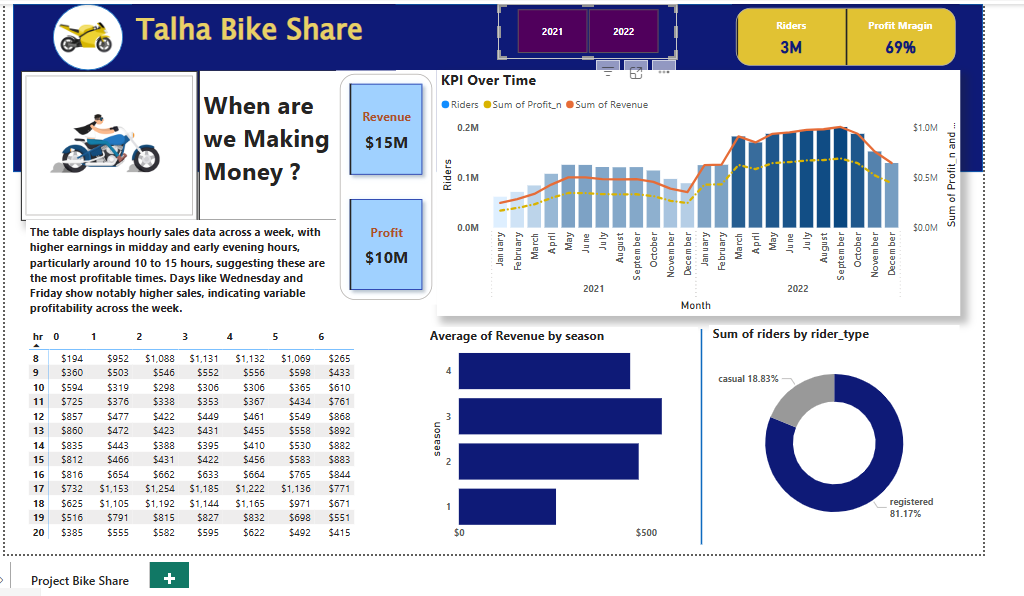

The dashboard page shown, as its layout file describes it:
{"tool":"powerbi","page":{"name":"Project Bike Share","canvas":[1280,720],"ordinal":0},"visuals":[{"type":"shape","box":[10.1,0,1269.9,220.1],"z":0},{"type":"cardVisual","fields":{"Data":["Sheet1.riders"]},"box":[21.4,87.1,231.4,195.7],"z":1000},{"type":"lineClusteredColumnComboChart","title":"KPI Over Time","fields":{"Y":["Sheet1.riders"],"Category":["Sheet1.dteday.Variation.Date Hierarchy.Year","Sheet1.dteday.Variation.Date Hierarchy.Month"],"Y2":["Sheet1.Profit_n","Sheet1.revenue"]},"box":[565,86.7,685,321.7],"z":2000},{"type":"pivotTable","fields":{"Rows":["Sheet1.hr"],"Values":["Sheet1.revenue"],"Columns":["Sheet1.weekday"]},"box":[26.7,420,453.3,300],"z":3000},{"type":"textbox","box":[253.3,86.7,186.7,196.7],"z":4000},{"type":"textbox","box":[27.1,282.9,405.7,137.1],"z":5000},{"type":"clusteredBarChart","fields":{"Category":["Sheet1.season"],"Y":["Sheet1.revenue"]},"box":[551.1,422.8,356.1,288],"z":6000},{"type":"donutChart","fields":{"Category":["Sheet1.rider_type"],"Y":["Sheet1.riders"]},"box":[922,420,328,288],"z":7000},{"type":"shape","box":[885,425.3,53.7,282.2],"z":8000},{"type":"cardVisual","title":"KPI Over Time","fields":{"Data":["Sheet1.revenue","Sheet1.Profit_n"]},"box":[433.3,86.7,131.7,306.7],"z":9000},{"type":"cardVisual","title":"KPI Over Time","fields":{"Data":["Sheet1.riders","Sheet1.Profit Mragin"]},"box":[951.7,0,298.5,86.4],"z":10000},{"type":"slicer","fields":{"Values":["Sheet1.Year"]},"box":[645.7,0,234.3,71.4],"z":11000},{"type":"shape","box":[63.3,0,91.7,86.7],"z":12000},{"type":"image","box":[63.3,0,85,86.7],"z":13000},{"type":"textbox","box":[166.7,0,345,86.7],"z":14000}]}

Visuals, with their boxes in screenshot pixels (x1, y1, x2, y2):
shape: rect(3, 0, 1005, 174)
cardVisual - Sheet1.riders: rect(12, 69, 194, 223)
"KPI Over Time" lineClusteredColumnComboChart: rect(440, 68, 981, 322)
pivotTable - Sheet1.hr x Sheet1.revenue: rect(16, 331, 373, 568)
textbox: rect(195, 68, 342, 224)
textbox: rect(16, 223, 336, 331)
clusteredBarChart - Sheet1.season x Sheet1.revenue: rect(429, 334, 710, 561)
donutChart - Sheet1.rider_type x Sheet1.riders: rect(722, 331, 981, 559)
shape: rect(693, 336, 735, 558)
"KPI Over Time" cardVisual: rect(337, 68, 440, 310)
"KPI Over Time" cardVisual: rect(746, 0, 981, 68)
slicer - Sheet1.Year: rect(504, 0, 689, 56)
shape: rect(45, 0, 117, 68)
image: rect(45, 0, 112, 68)
textbox: rect(126, 0, 398, 68)
